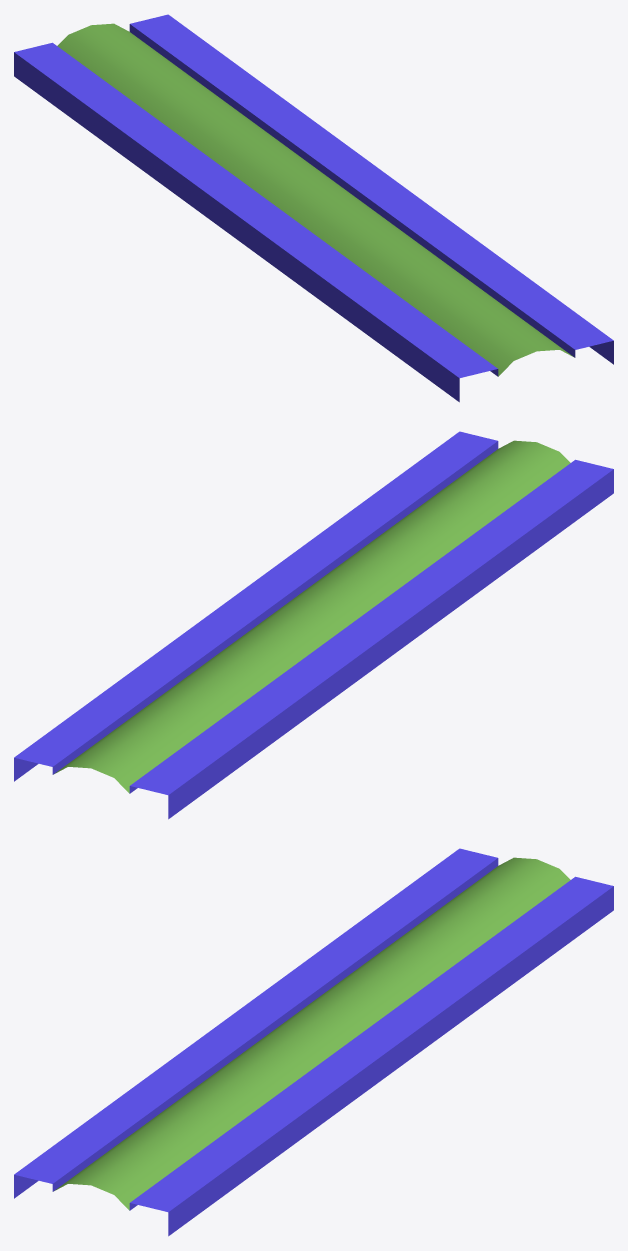
Rendered from PowerCable_Straight_02.FBX.
3 views of the same model, one above another, from view 1: azimuth 30°, elevation 25°; view 2: azimuth 150°, elevation 25°; view 3: azimuth 330°, elevation 25° (orthographic).
Parts seen in each view (by area): view 1: PowerCable_Straight_02; view 2: PowerCable_Straight_02; view 3: PowerCable_Straight_02.
Part boxes in pixels (box(x1,y1,x2,y2)): PowerCable_Straight_02: box(14, 14, 613, 402); PowerCable_Straight_02: box(14, 431, 613, 819); PowerCable_Straight_02: box(14, 848, 613, 1236).
Size of the model in its own units: 0.2 by 0.04 by 1.
